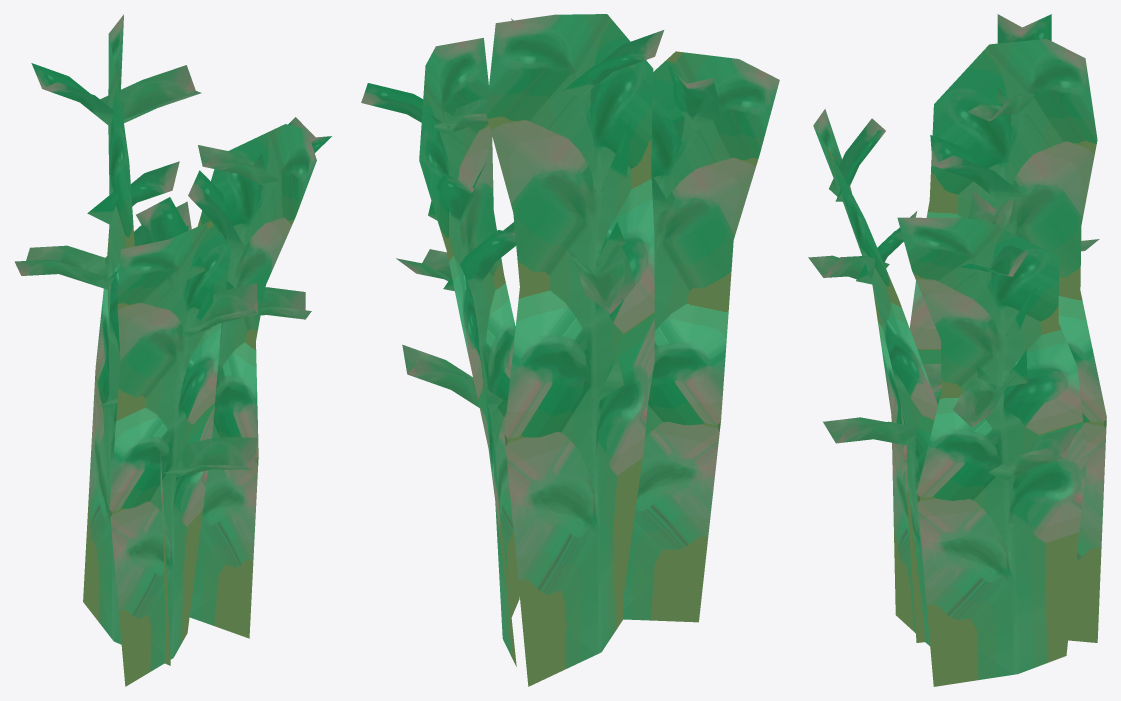
Rendered from SM_Plant_02_02.fbx.
3 renders of one model, left to right at view 1: azimuth 30°, elevation 25°; view 2: azimuth 150°, elevation 25°; view 3: azimuth 270°, elevation 25°, orthographic. The views are drawn at different scales.
Parts seen in each view (by area): view 1: SM_Plant_02_02_LOD0; view 2: SM_Plant_02_02_LOD0; view 3: SM_Plant_02_02_LOD0.
Part boxes in pixels (x1=…): SM_Plant_02_02_LOD0: x1=15, y1=14, x2=331, y2=686; SM_Plant_02_02_LOD0: x1=361, y1=14, x2=779, y2=686; SM_Plant_02_02_LOD0: x1=808, y1=14, x2=1106, y2=686.
Size of what is drawn, in the model's own units: 44.13 by 84.9 by 38.01.
